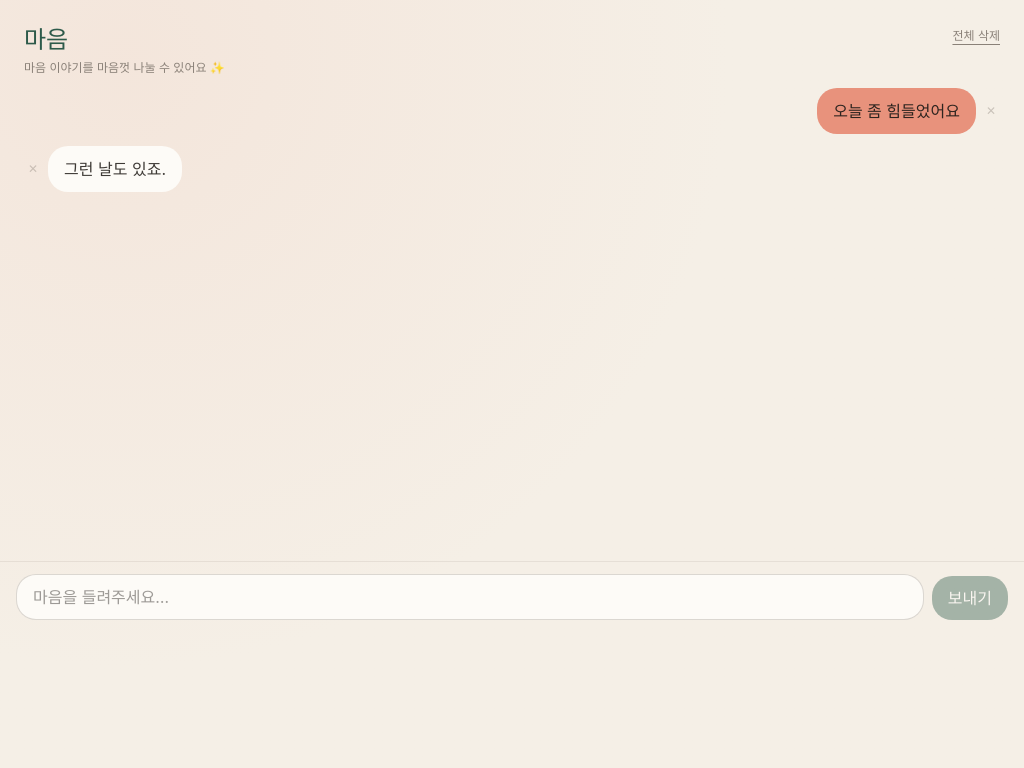
Scenario: MindChat — 익명 로컬 기록 › 전체 삭제를 확인하면 모든 메시지를 지운다
Click the button "전체 삭제" at (976, 36), box [952,28,1000,44]
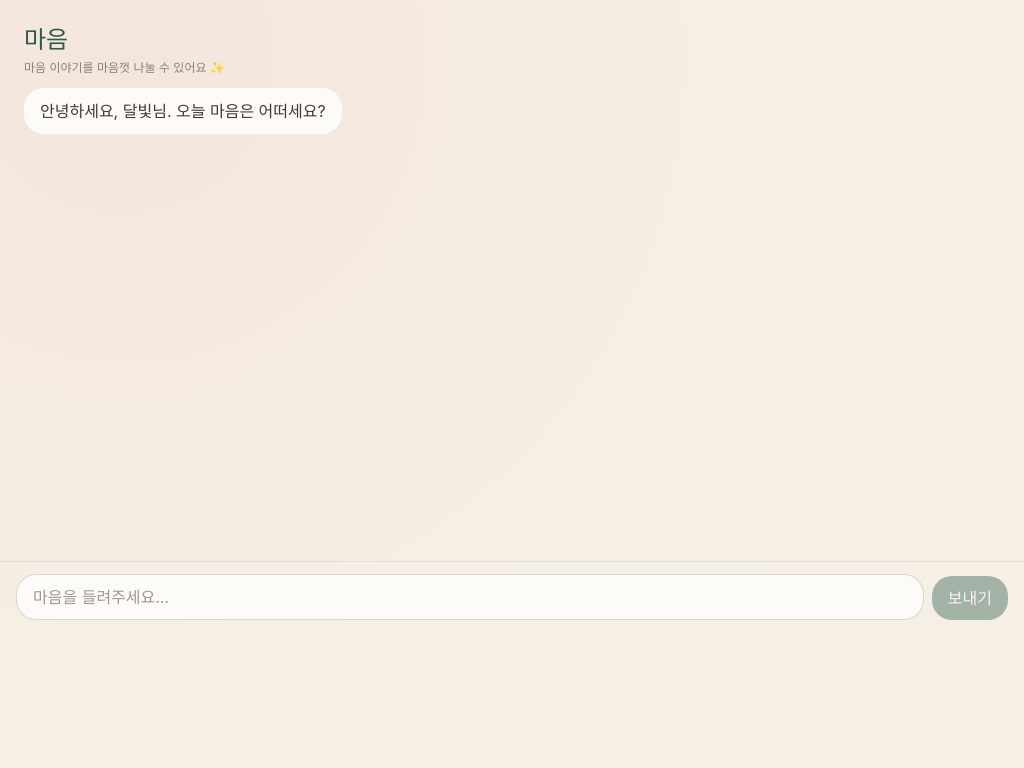
Expected: the text "오늘 좀 힘들었어요" is gone
Expected: the text "그런 날도 있죠." is gone
